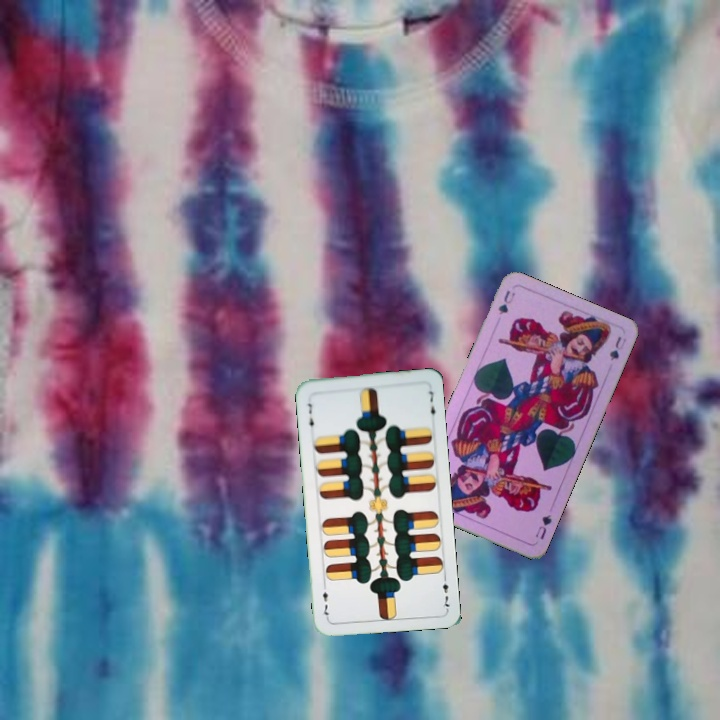E7: (438, 571, 452, 612), (303, 399, 316, 433)
GU: (531, 510, 555, 542), (494, 286, 518, 317)
